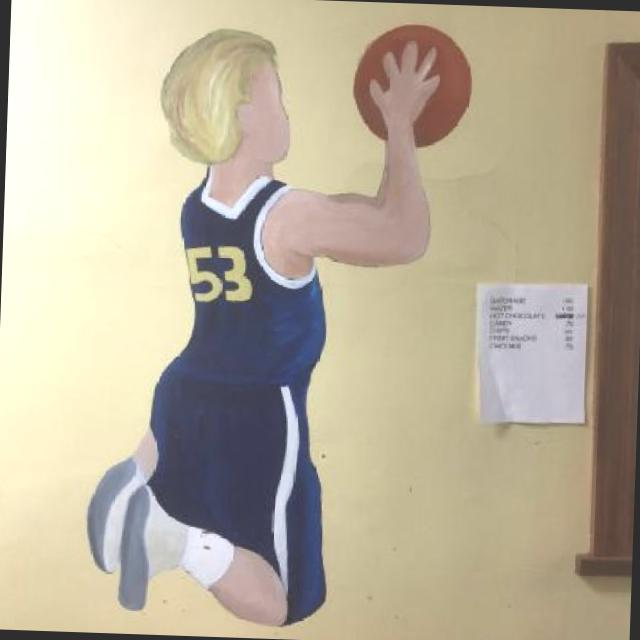Person: (84, 24, 443, 634)
